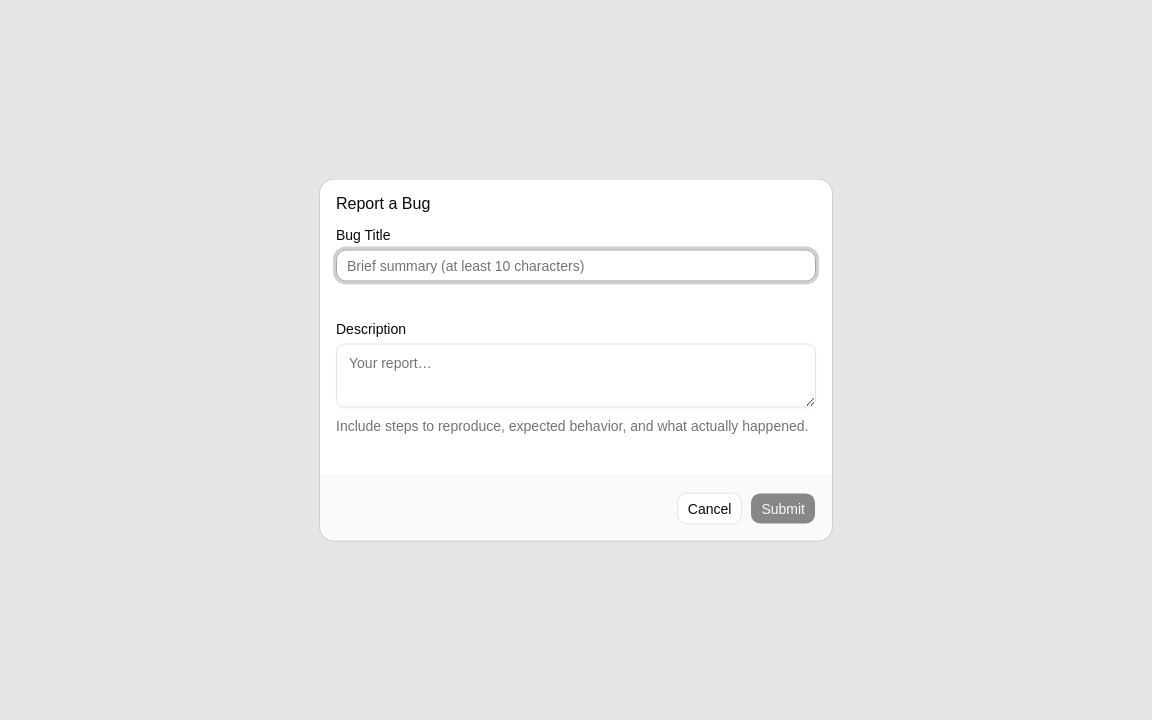
Test case: BugReportDialog › submit button is enabled when both fields are valid
Type "This is a valid title" into the field labelled "Bug Title" at (576, 266), box [336,250,816,282]
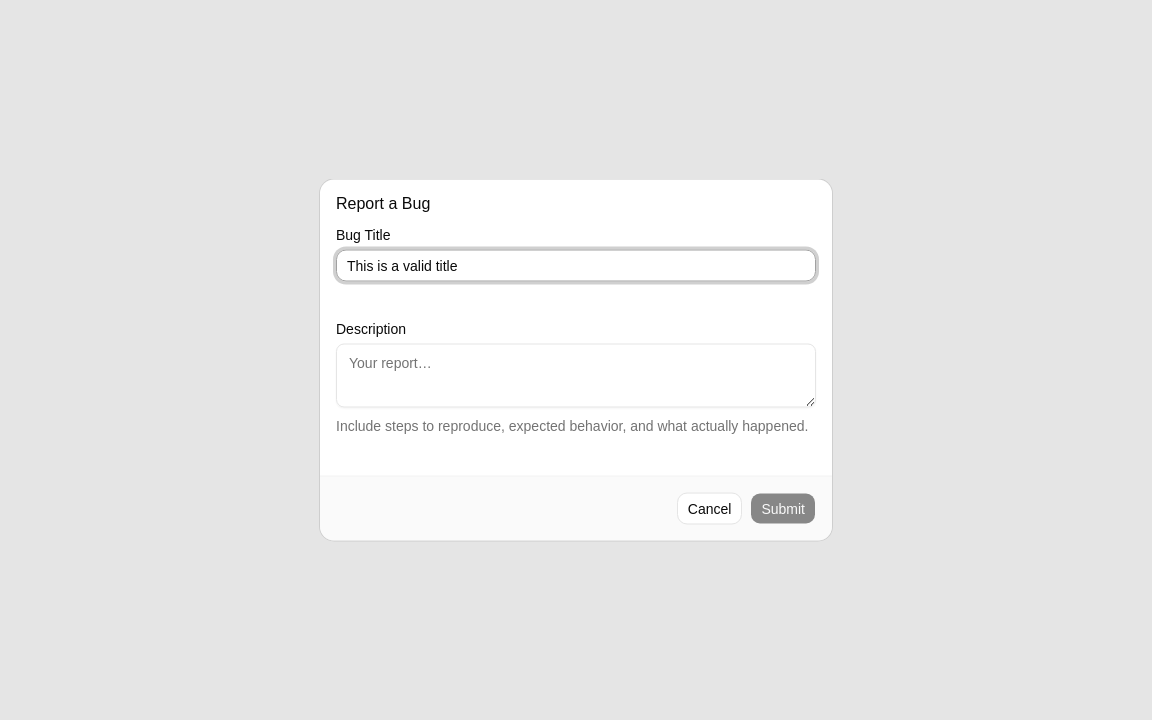
Type "This description is long enough to pass" into the text box labelled "Description" at (576, 376), box [336,344,816,408]
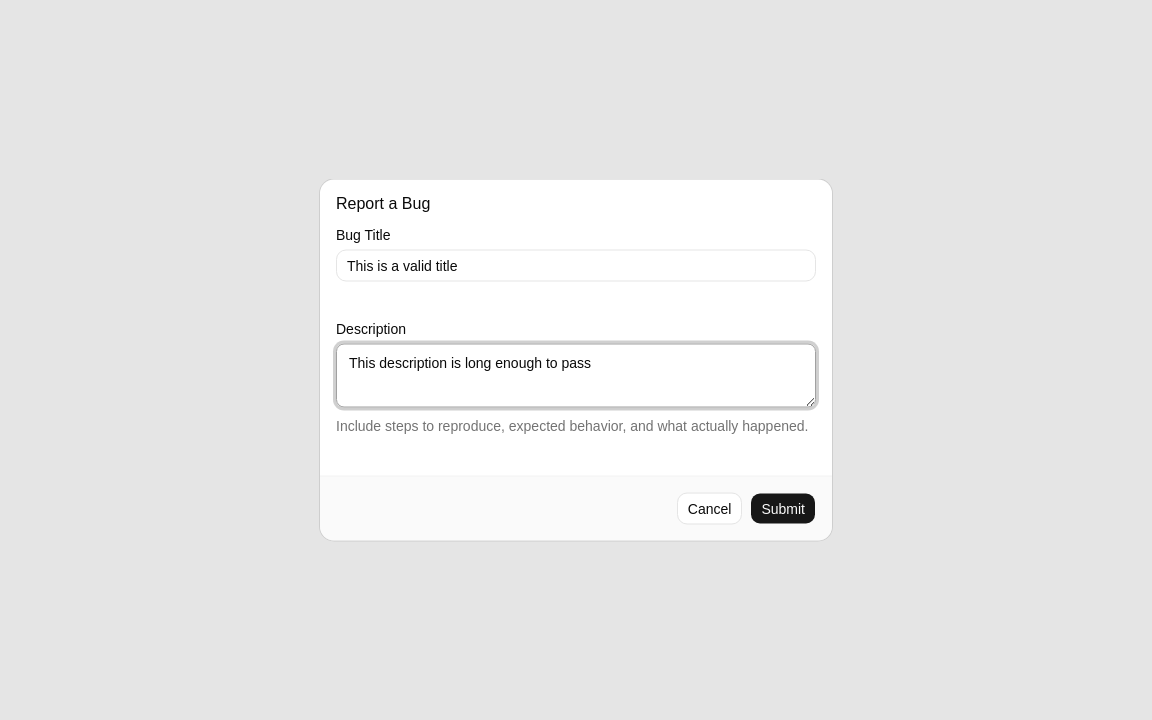
Check: the button "Submit" is enabled, box [750,492,816,524]
